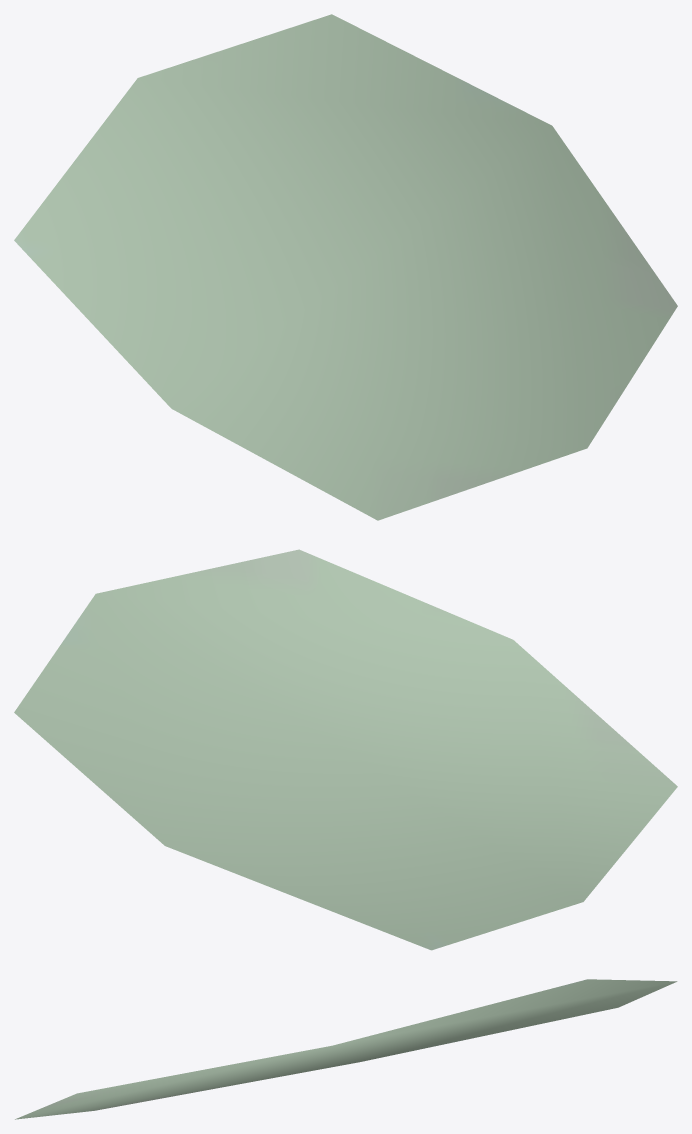
File: TROLLHOLE02_HOLECAP91.fbx
The picture shows the model from 3 angles, top to bottom: view 1: azimuth 30°, elevation 25°; view 2: azimuth 150°, elevation 25°; view 3: azimuth 270°, elevation 25°; orthographic projection. The views are drawn at different scales.
Visible parts, largest first — view 1: TROLLHOLE02_HOLECAP91; view 2: TROLLHOLE02_HOLECAP91; view 3: TROLLHOLE02_HOLECAP91.
Boxes of the visible parts, left/top/right/bottom form: TROLLHOLE02_HOLECAP91: left=14, top=14, right=677, bottom=520; TROLLHOLE02_HOLECAP91: left=14, top=549, right=677, bottom=950; TROLLHOLE02_HOLECAP91: left=15, top=979, right=677, bottom=1119.
Bounding box in the file's own units: 8974 × 4626 × 14068.
Materials: 1 (1 with a texture image).
